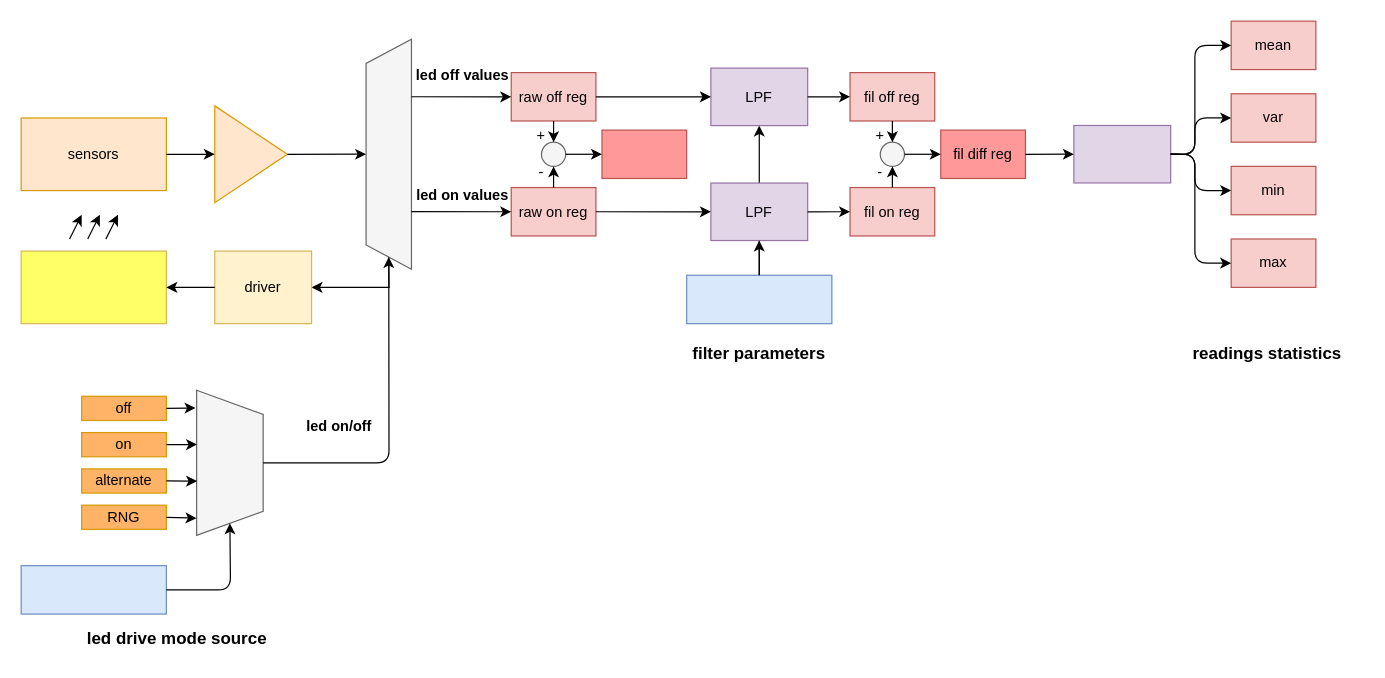
Some shapes in this 1385 by 678 pixel diagram are drawn without their labels. Each missing label, with the centre of its shape:
"ADC" belongs at (250,154).
"filter coeff reg" belongs at (758,299).
"led drive mode reg" belongs at (93,589).
"leds" belongs at (93,287).
"raw diff reg" belongs at (644,153).
"statistics" belongs at (1122,153).
